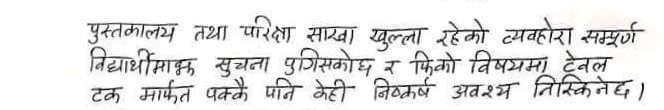text: (84, 47, 201, 77), (279, 48, 375, 77), (531, 75, 636, 100), (84, 19, 179, 45), (499, 17, 575, 49), (466, 51, 550, 73), (580, 20, 645, 47), (370, 77, 435, 104), (237, 16, 296, 45), (436, 19, 491, 50), (134, 79, 197, 106), (368, 24, 428, 50), (447, 81, 521, 101), (212, 54, 273, 77), (311, 77, 357, 105), (204, 78, 251, 105), (407, 52, 460, 75), (304, 23, 358, 45), (561, 51, 613, 72), (262, 77, 302, 102), (87, 81, 126, 105), (189, 22, 230, 43), (381, 57, 402, 75)
